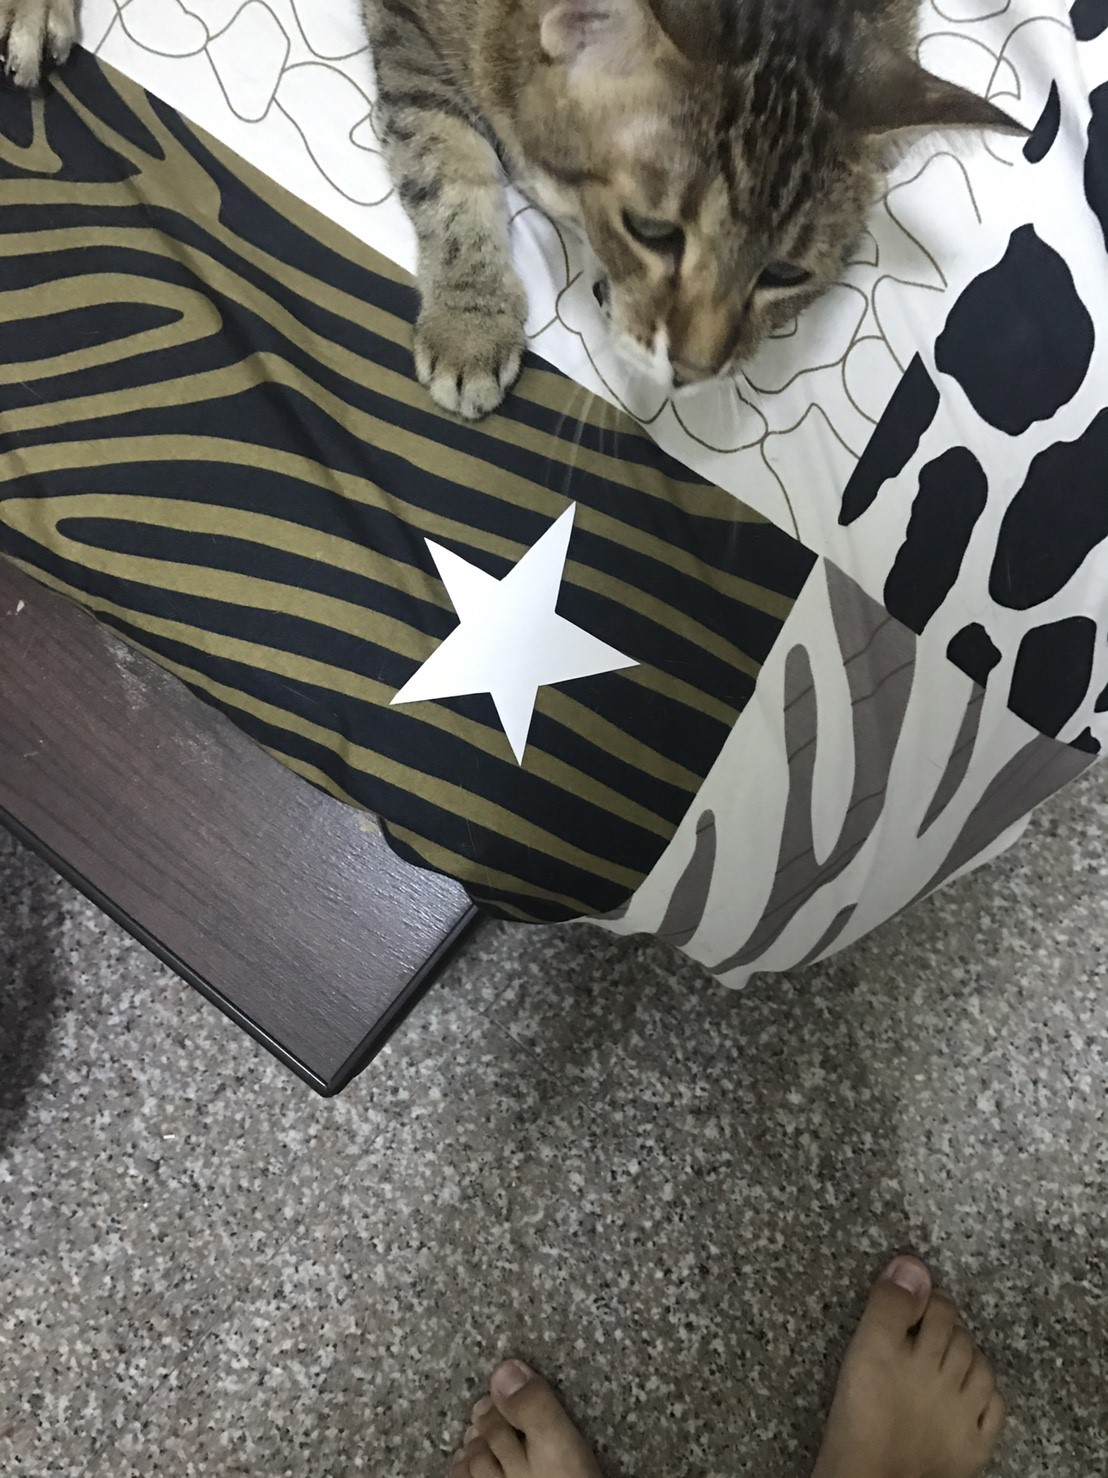star: (370, 488, 672, 776)
